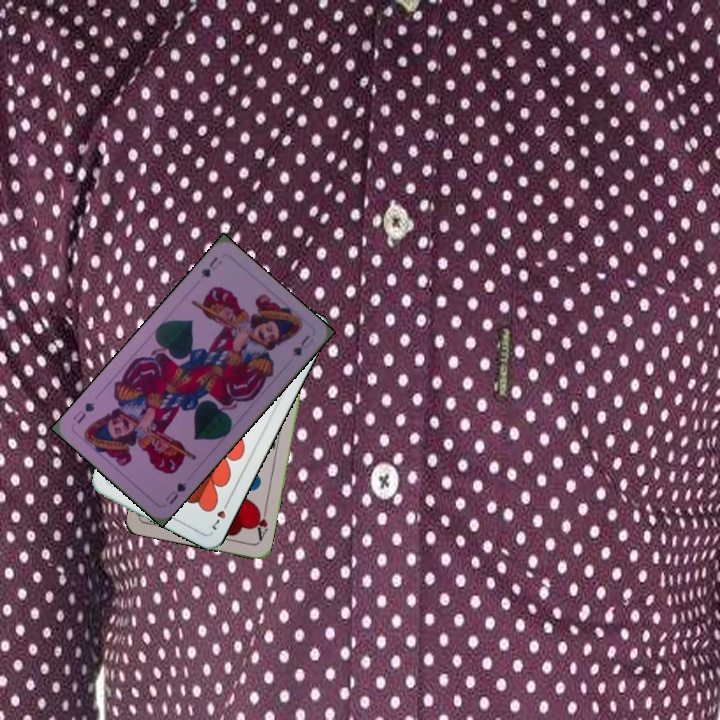GU: (161, 478, 189, 507), (197, 253, 225, 280)
H7: (208, 496, 232, 533)
HA: (251, 504, 270, 543)
